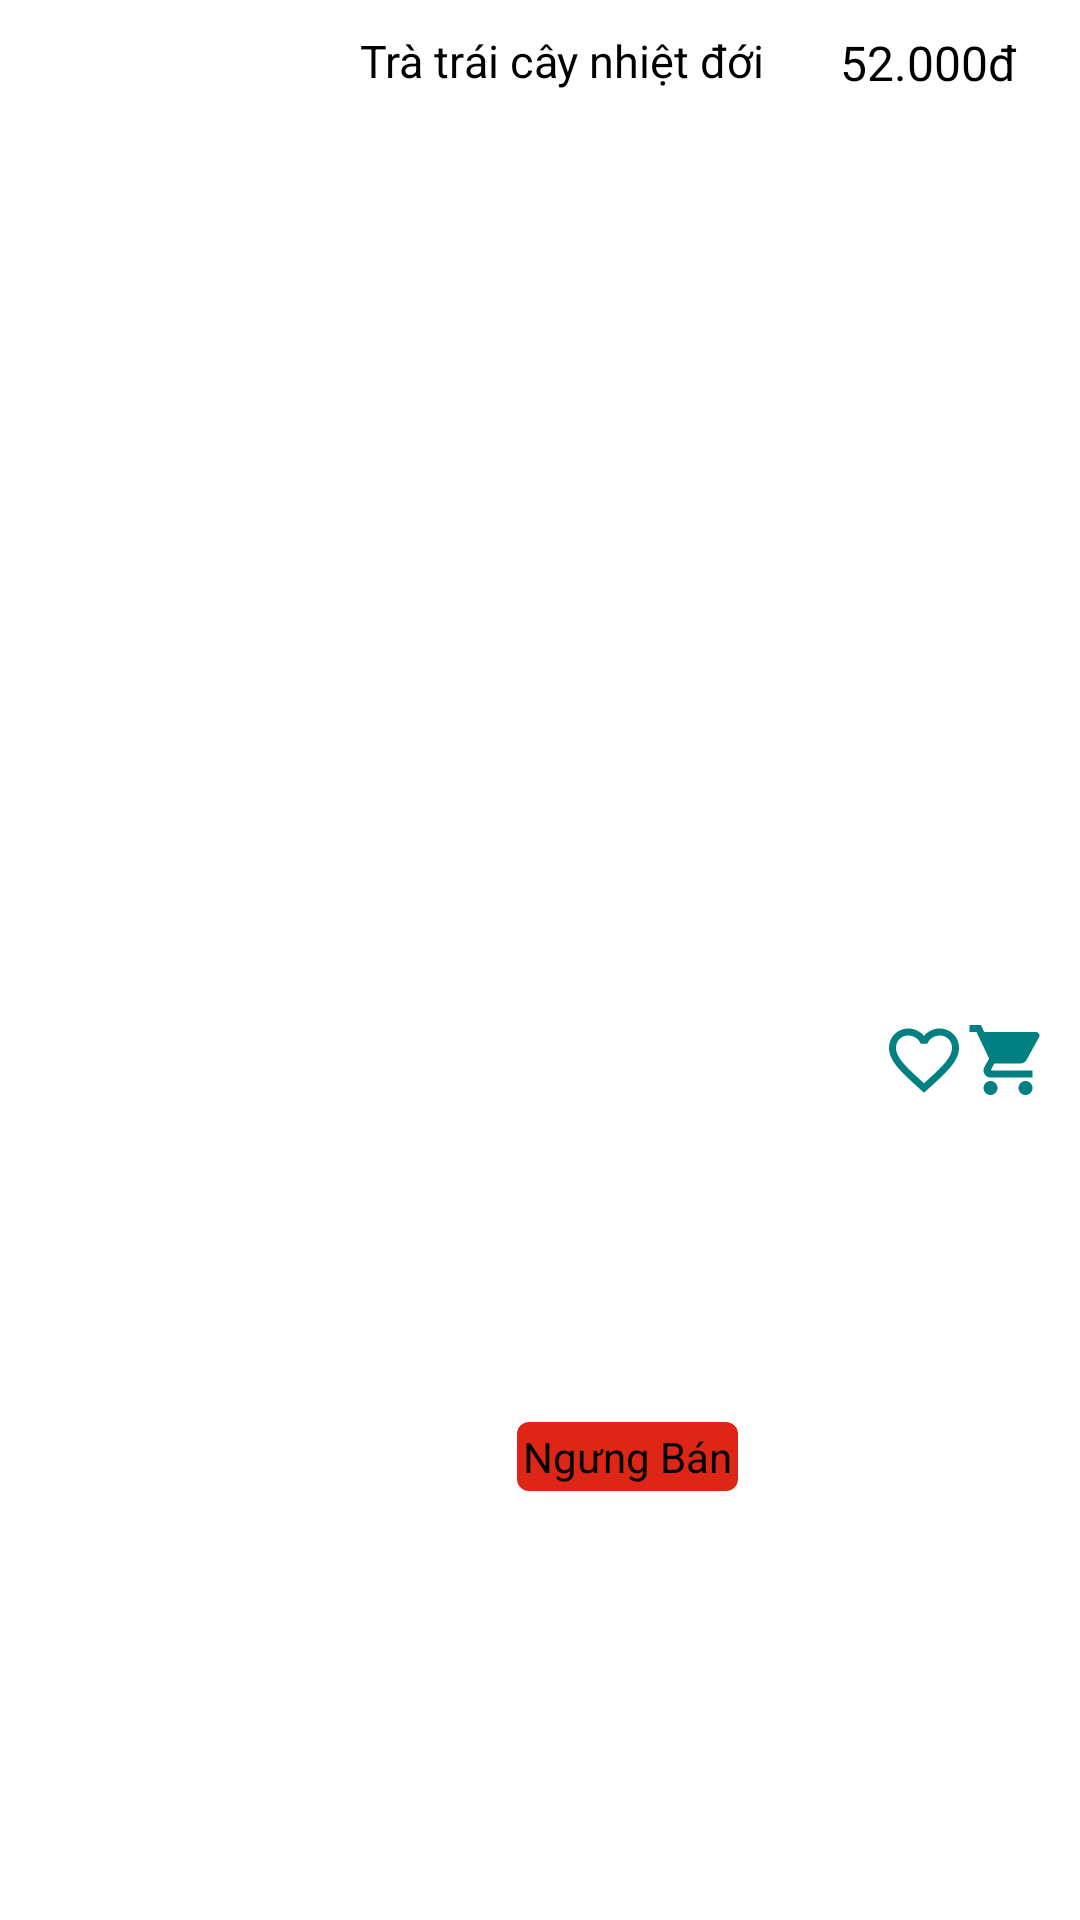

Named icons in this screenshot (1080×1920) and their centers, point (x, y):
favorite border: point (924, 1060)
shopping cart: point (1004, 1060)
